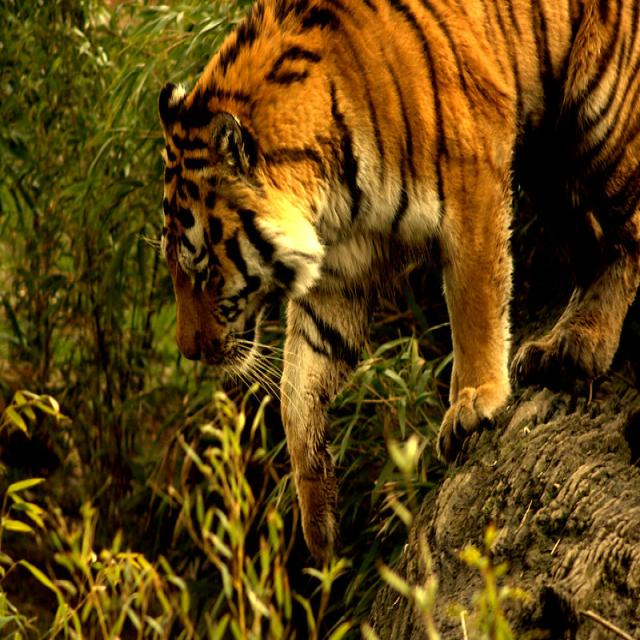Tiger: (152, 0, 639, 568)
